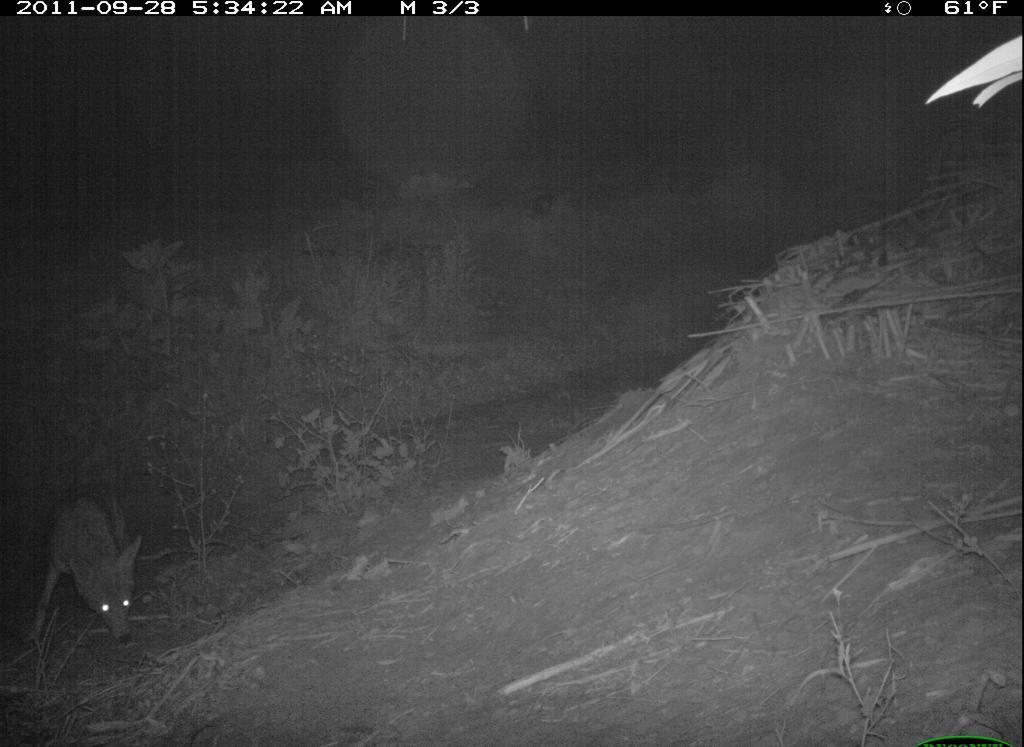coyote: (30, 489, 159, 662)
